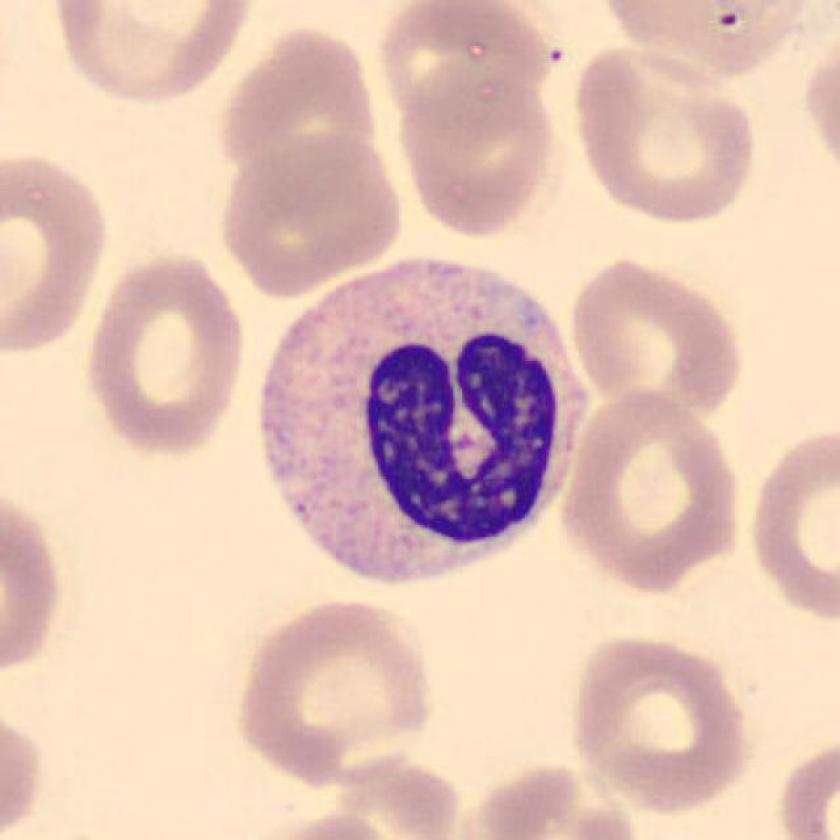neutrophil: (263, 261, 583, 585)
